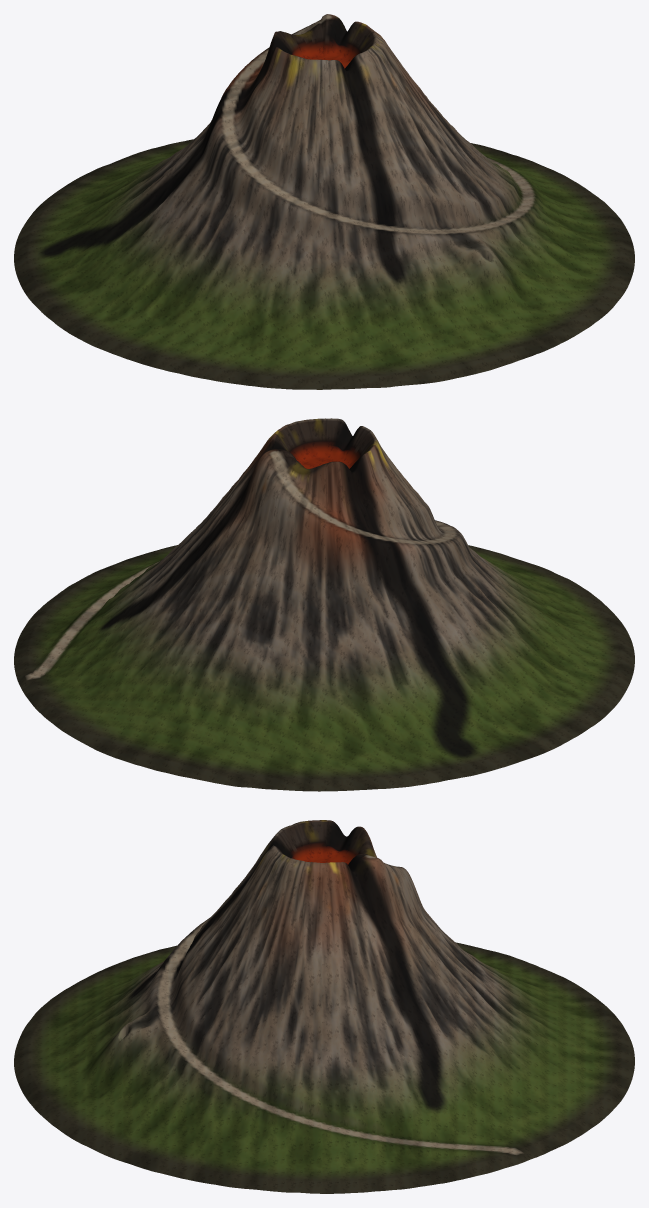
Rendered from volcano_mountain.glb.
3 views of the same model, one above another, from view 1: azimuth 30°, elevation 25°; view 2: azimuth 150°, elevation 25°; view 3: azimuth 270°, elevation 25° (orthographic).
Size of the model in its own units: 240 by 94.84 by 240.
1 material, 1 textured.
